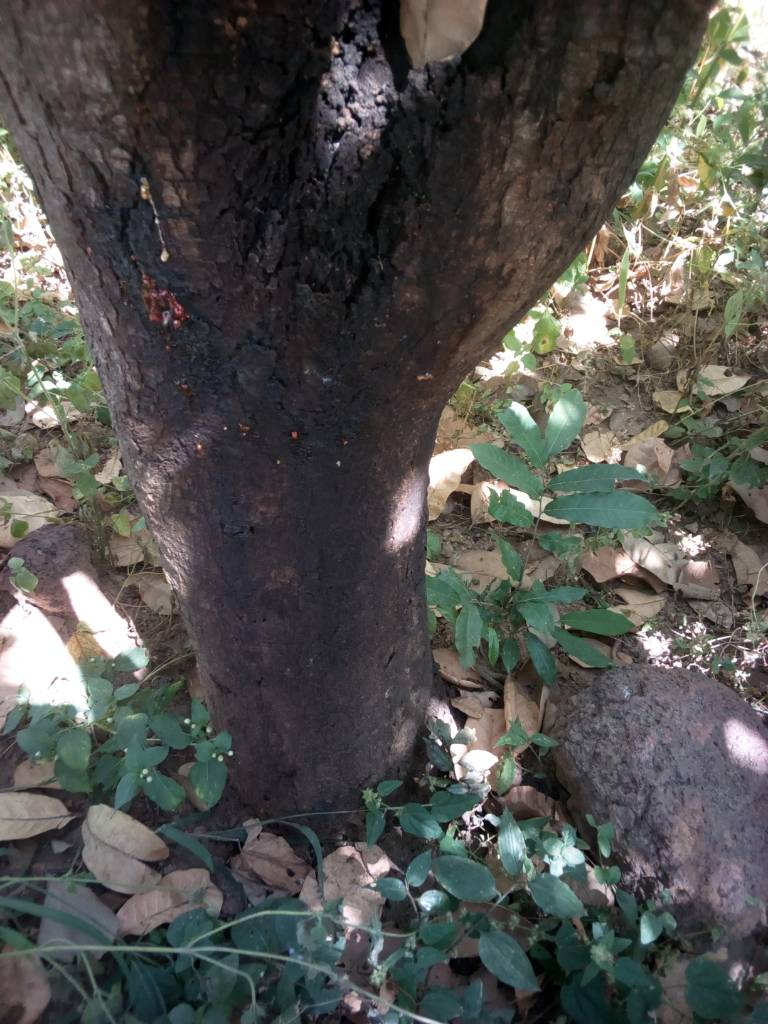Gommose: (132, 3, 413, 671)
